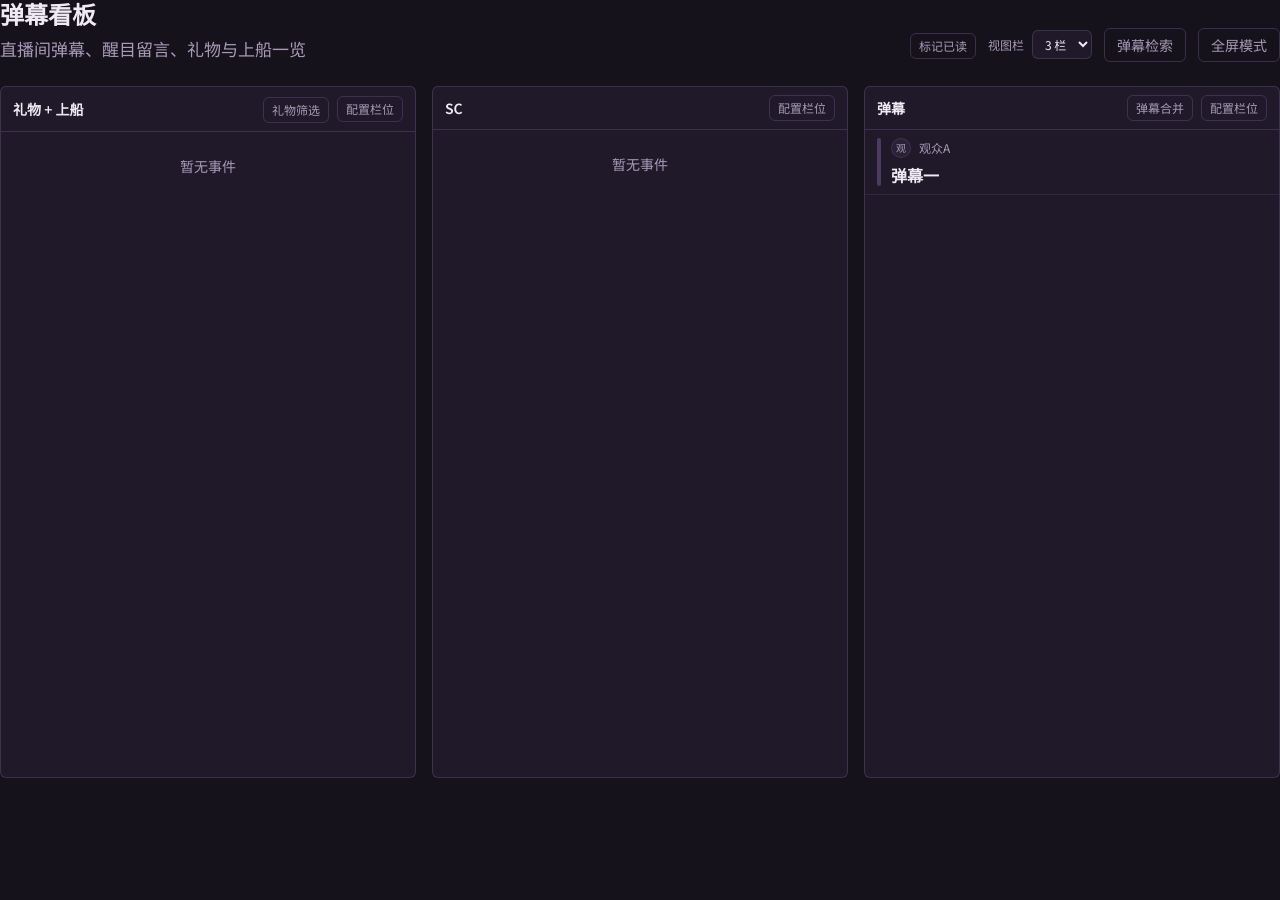
DanmakuPage 全屏模式 › 点击后以 fixed 遮罩占满网页窗口，出现「退出全屏」按钮
What coordinates should you click on to do the following:
click the button "全屏模式"
I would click on:
 (1239, 44)
Its box is 1198,28 -> 1279,62.
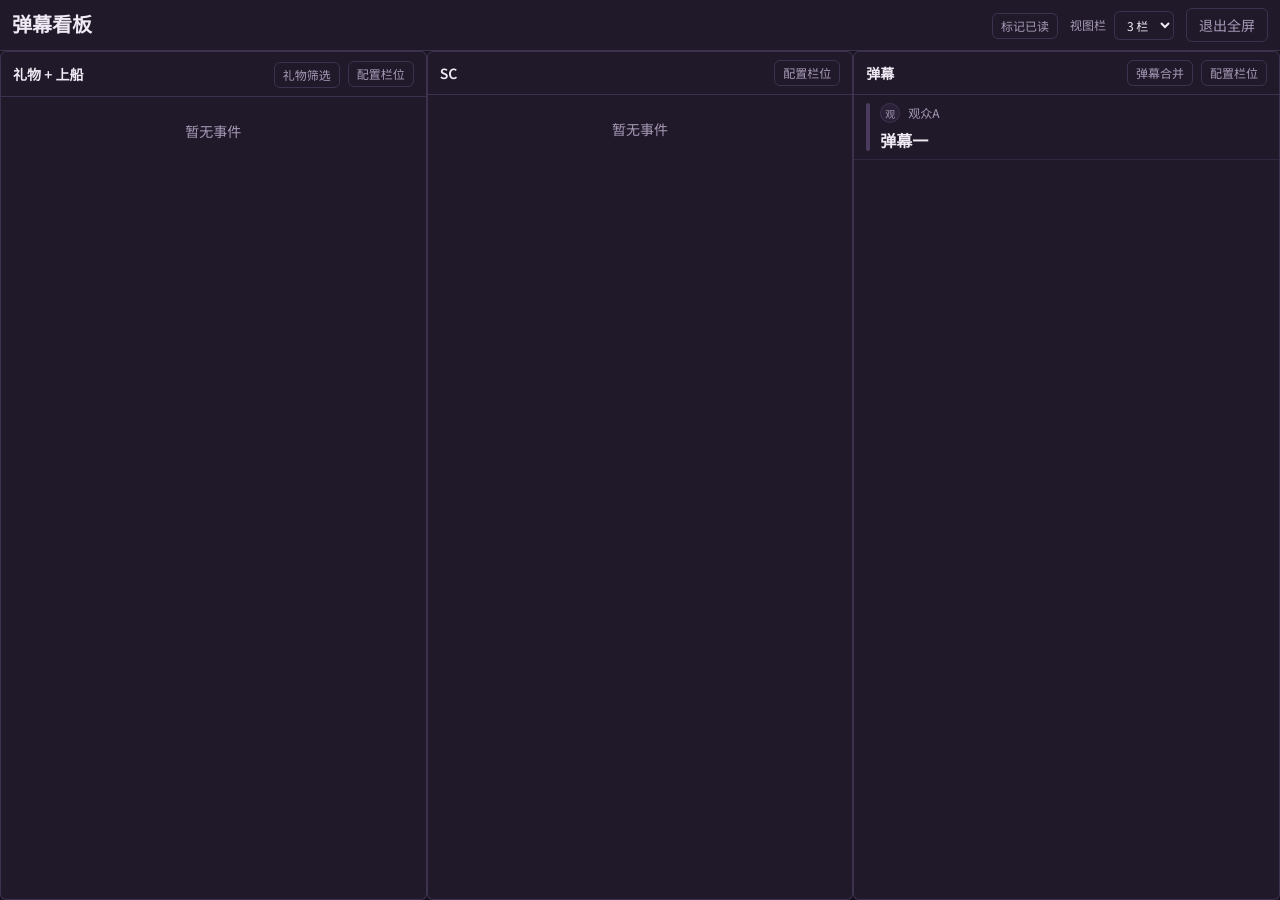
Result: the element with test id "danmaku-fullscreen" is shown
Result: the button "全屏模式" is gone
